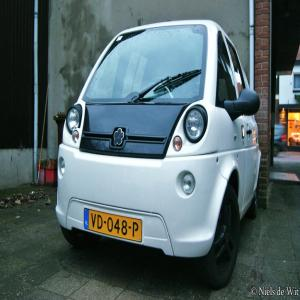Vehicle-registration-plate: (83, 209, 153, 251)
